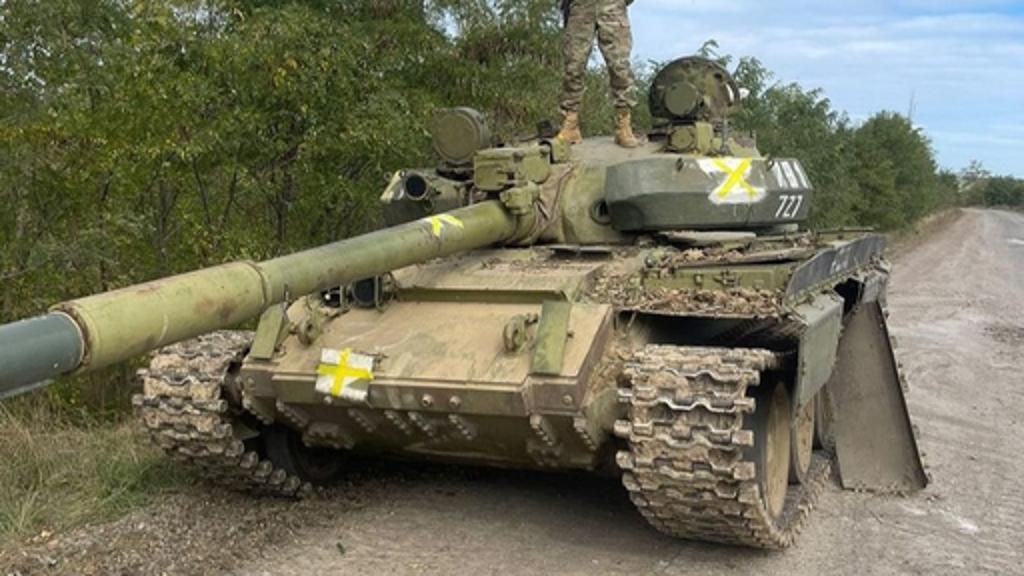TANK: (0, 92, 902, 556)
